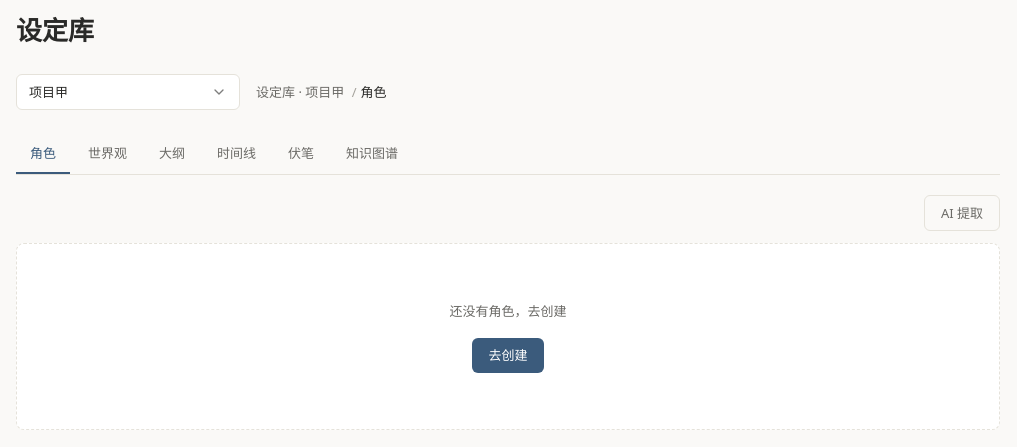
设定库页 — 世界观默认视图重设计（#568） › 分类 chips：不渲染「全部」选项
Click the tab "世界观": [108, 154] box [74,134,141,174]
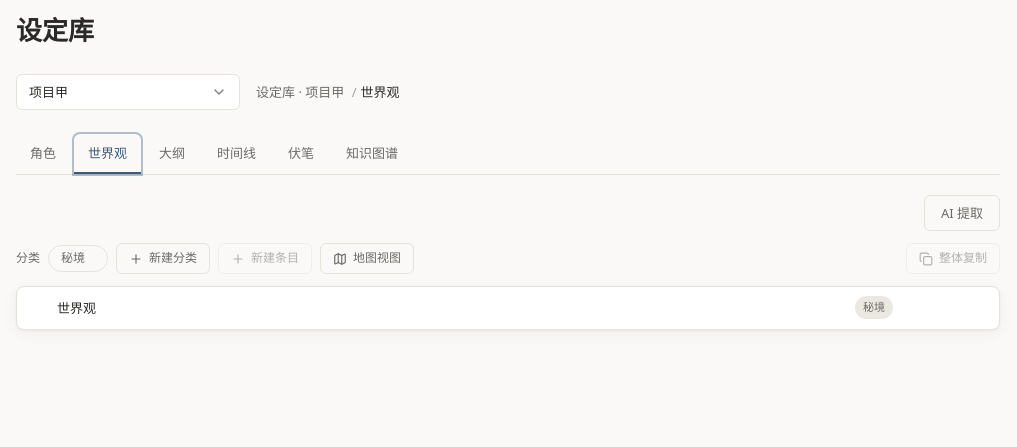
Expected: the element with test id "library-list" is shown, [16,286,1000,330]
Expected: the button with test id "world-cat-filter-秘境" is shown, [61,248,85,269]
